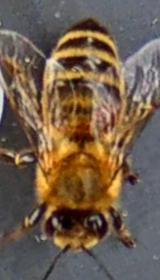varroa_mite: (85, 97, 122, 138)
